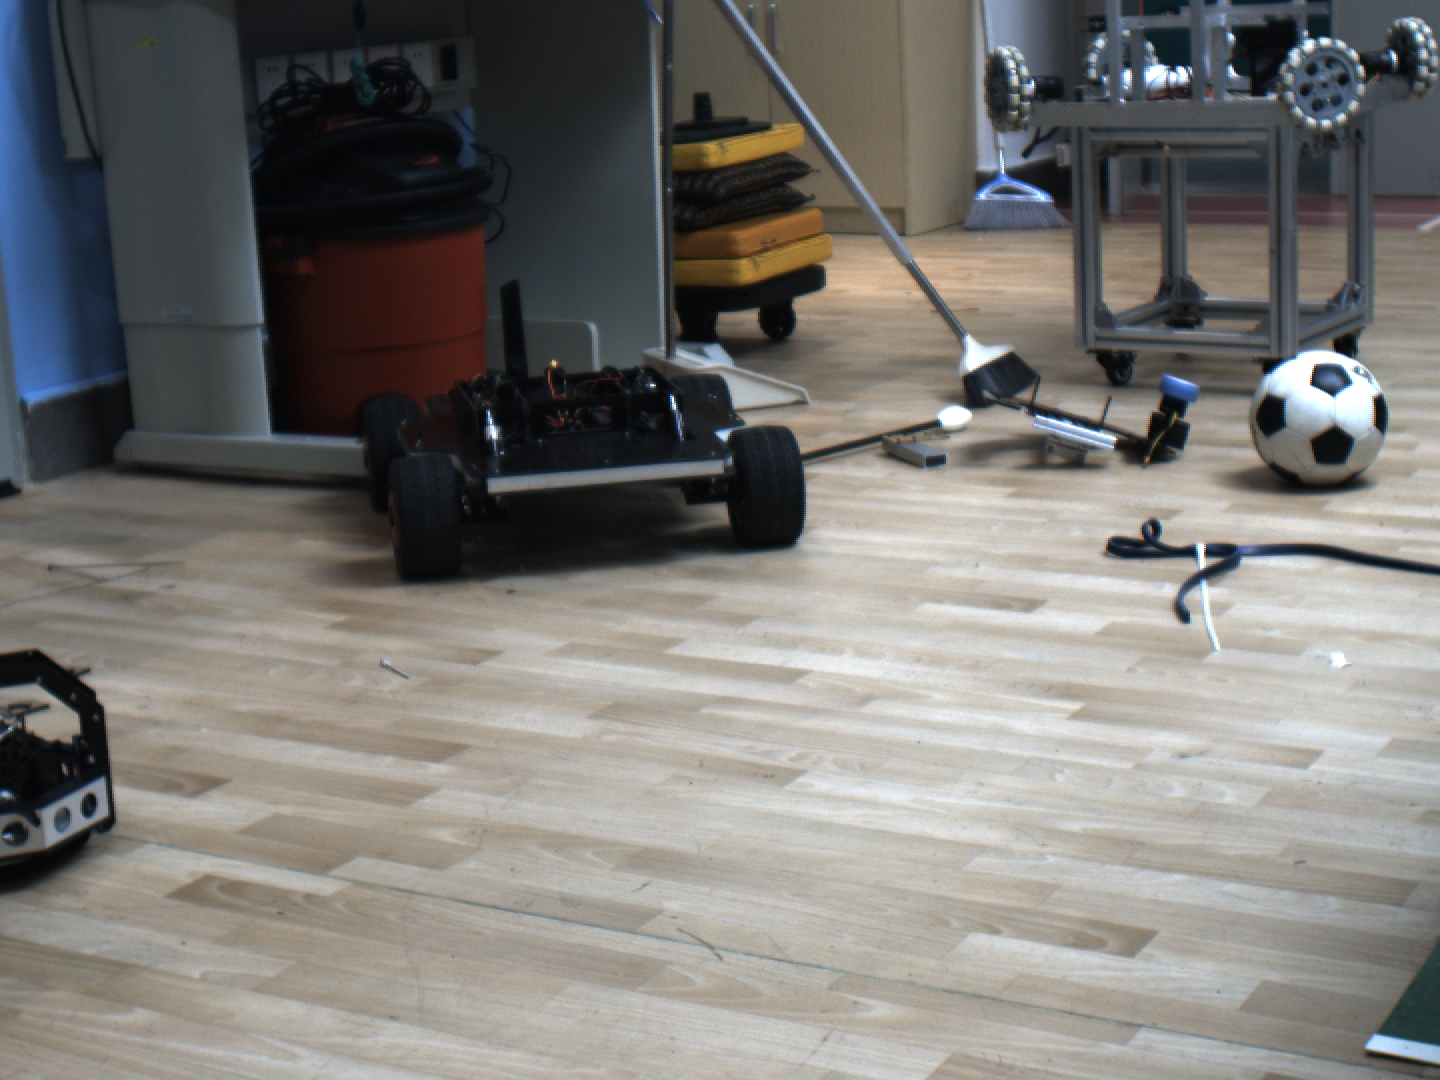ball: (1221, 329, 1420, 503)
